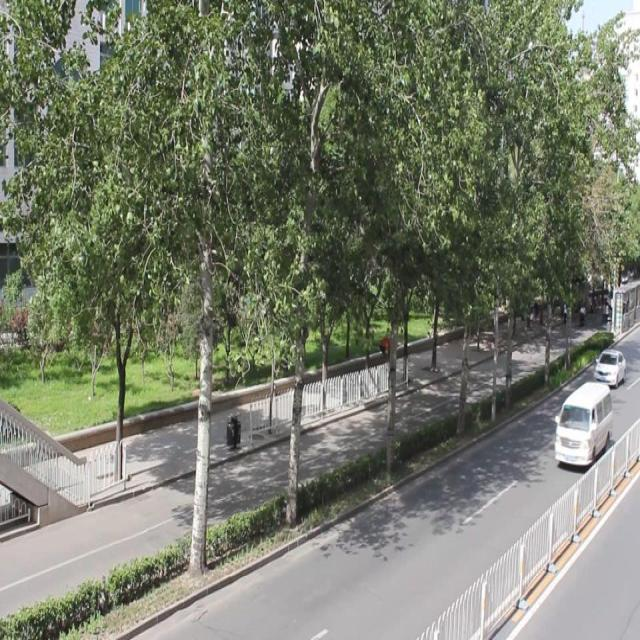truck: (555, 377, 609, 469)
